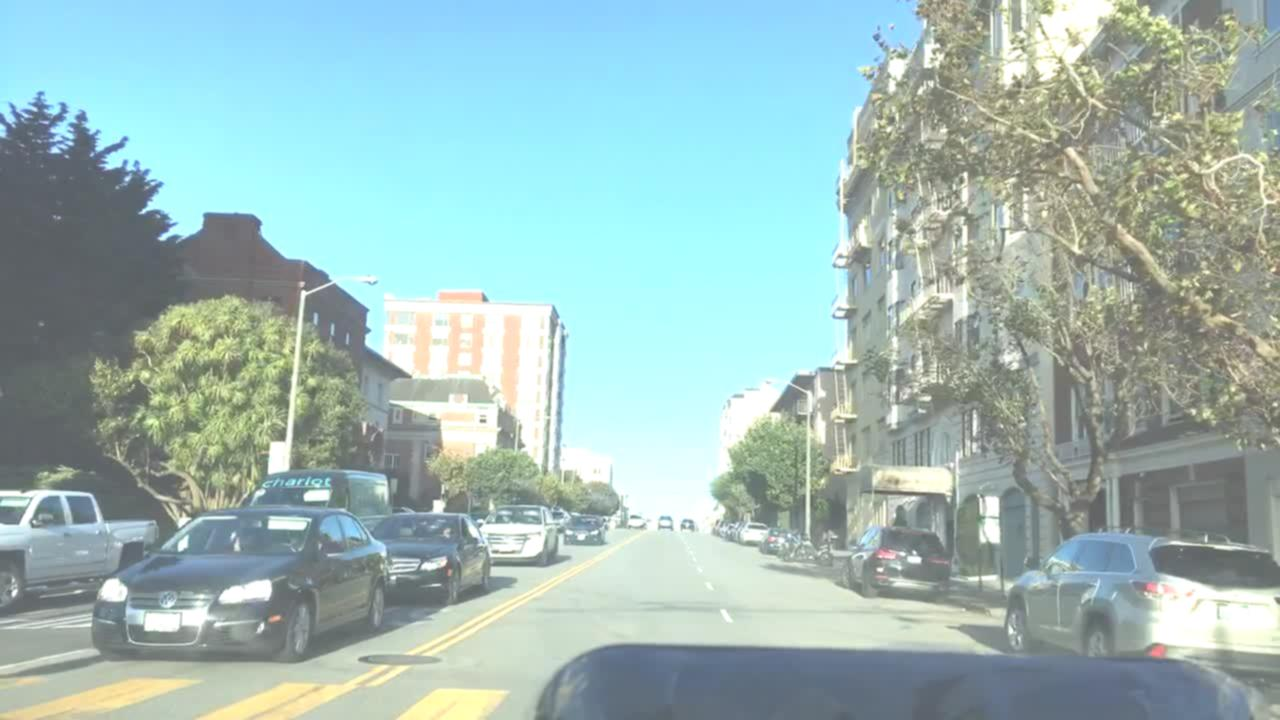Volkswagen: (156, 585, 181, 617)
